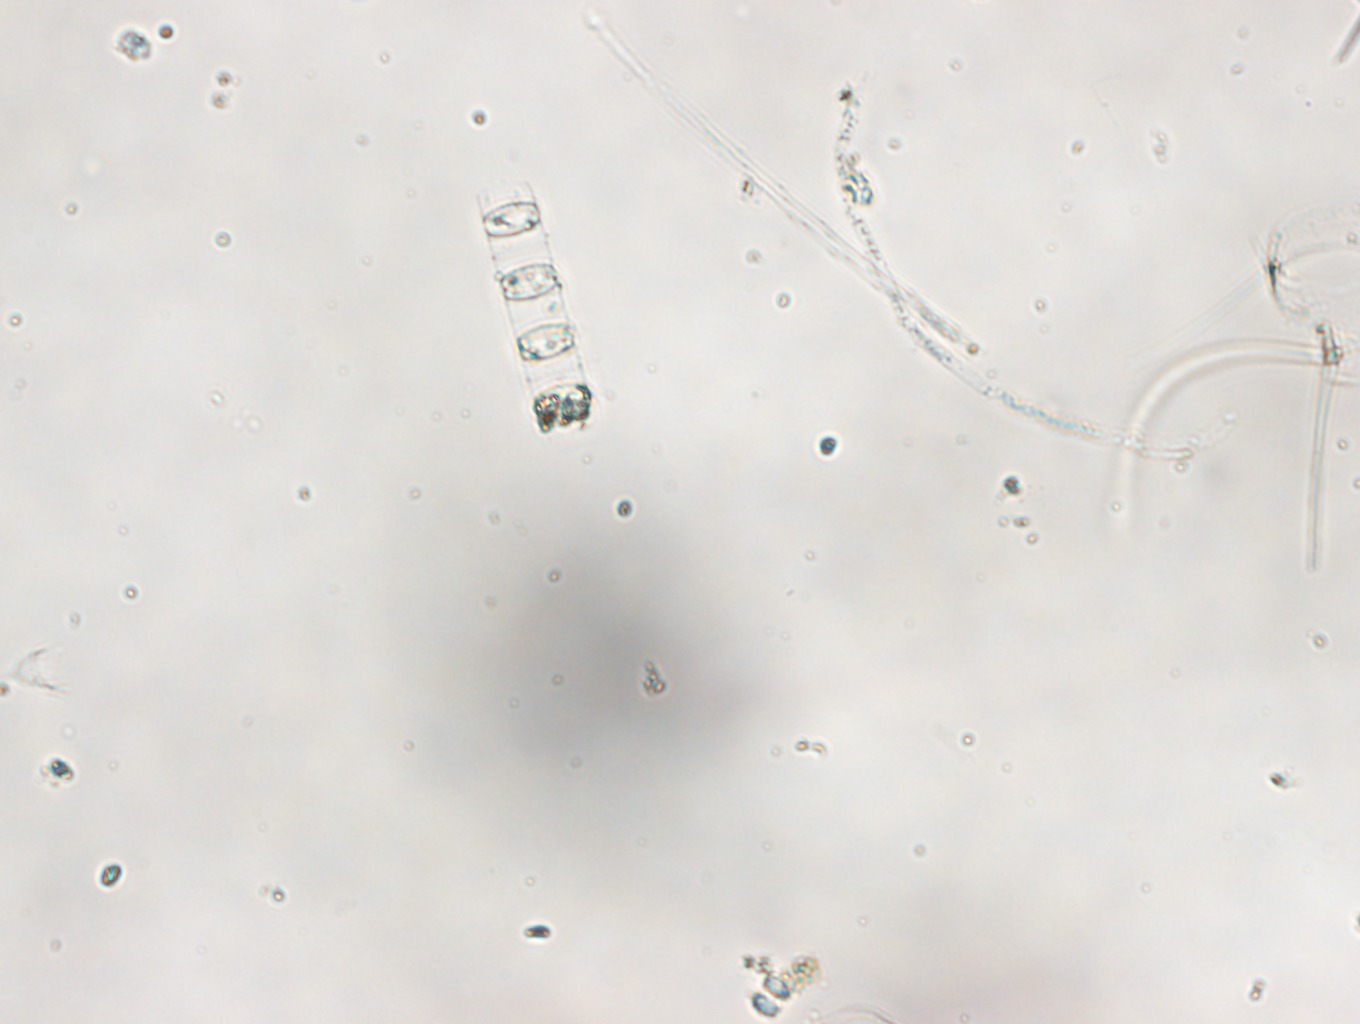skeletonema: (448, 173, 601, 447)
